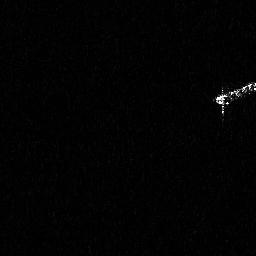ship: (212, 79, 256, 124)
